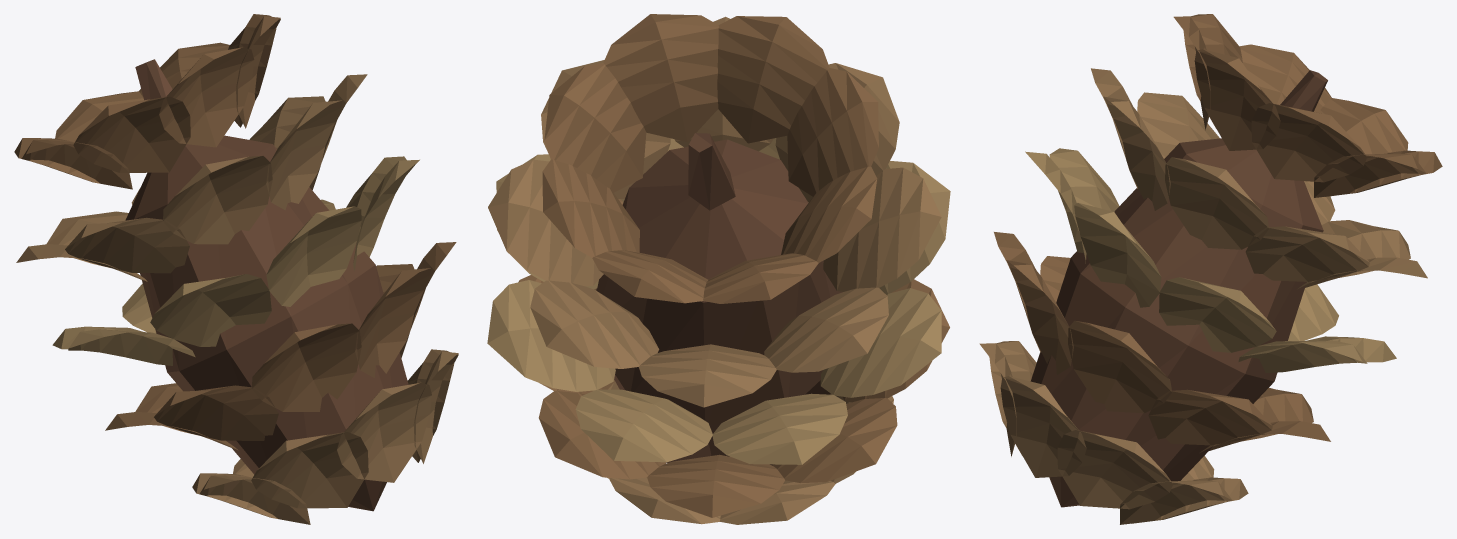
Rendered from seed_pine.glb.
3 renders of one model, left to right at view 1: azimuth 30°, elevation 25°; view 2: azimuth 150°, elevation 25°; view 3: azimuth 270°, elevation 25°, orthographic. The views are drawn at different scales.
Visible parts, largest first — view 1: seed; view 2: seed; view 3: seed.
Boxes of the visible parts, x1,y1,x2,y2 form: seed: (14,14,458,524); seed: (487,14,950,524); seed: (979,14,1442,524).
Size of the model in its own units: 0.3004 by 0.3589 by 0.329.
